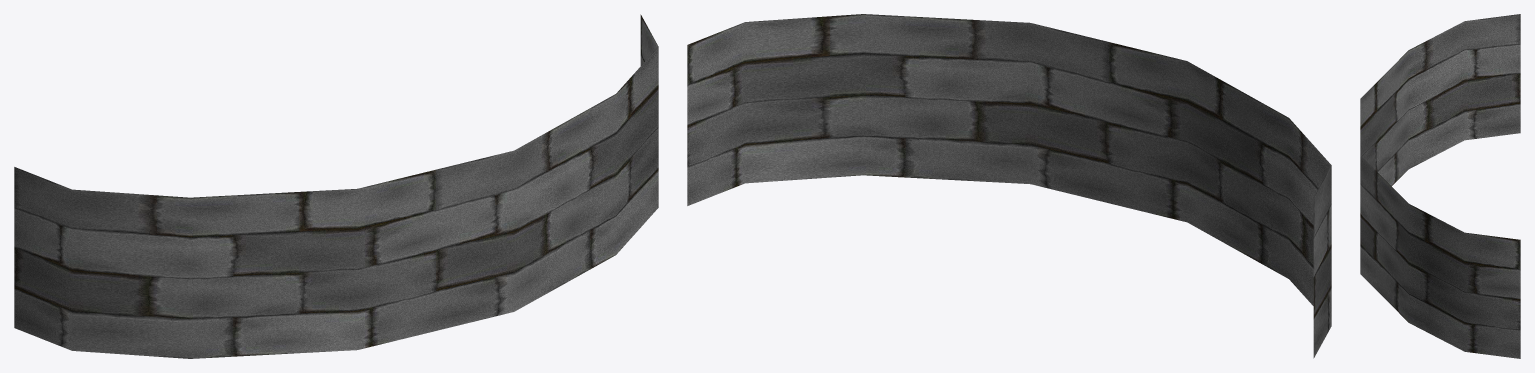
The model's file is Gen_Int_WallMidWindow.fbx.
The picture shows the model from 3 angles, left to right: view 1: azimuth 30°, elevation 25°; view 2: azimuth 150°, elevation 25°; view 3: azimuth 270°, elevation 25°; orthographic projection. The views are drawn at different scales.
Parts seen in each view (by area): view 1: GenHouse_Mod_CurveWindowWall1; view 2: GenHouse_Mod_CurveWindowWall1; view 3: GenHouse_Mod_CurveWindowWall1.
Boxes of the visible parts, <box> form: GenHouse_Mod_CurveWindowWall1: <box>14,14,658,358</box>; GenHouse_Mod_CurveWindowWall1: <box>687,14,1331,358</box>; GenHouse_Mod_CurveWindowWall1: <box>1360,14,1520,358</box>.
Size of the model in its own units: 5.27 by 1.3 by 1.58.
1 material, 1 textured.
